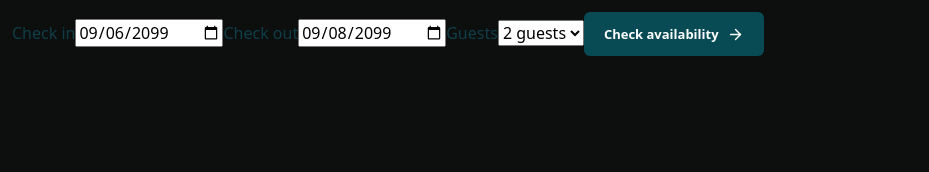
Booking search › flags stale results when dates are edited without re-checking
The image size is (929, 172).
Type "2099-09-10" into the date field labelled "Check in" at (149, 33), box [75,19,223,47]
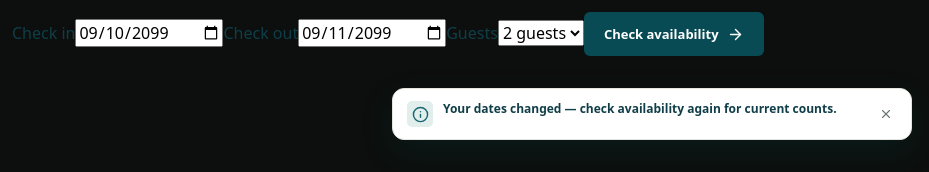
Expected: the message shows "check availability again", [443,100,837,117]
